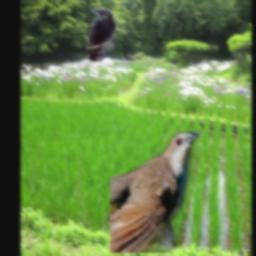Crow: (87, 8, 117, 61)
Cuckoo: (111, 132, 200, 254)
